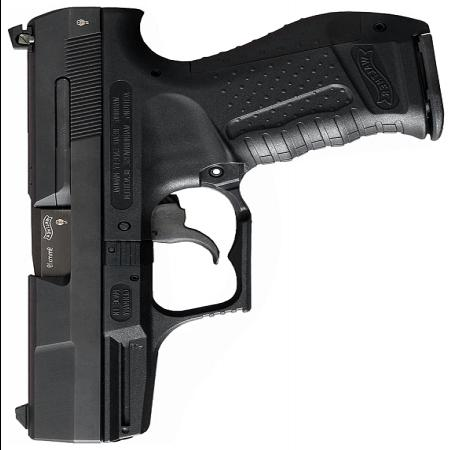Pistol: (2, 8, 440, 442)
